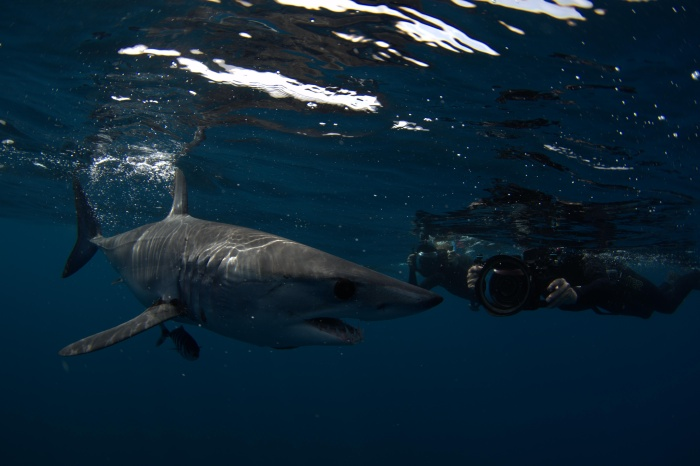Mako: (54, 168, 446, 374)
